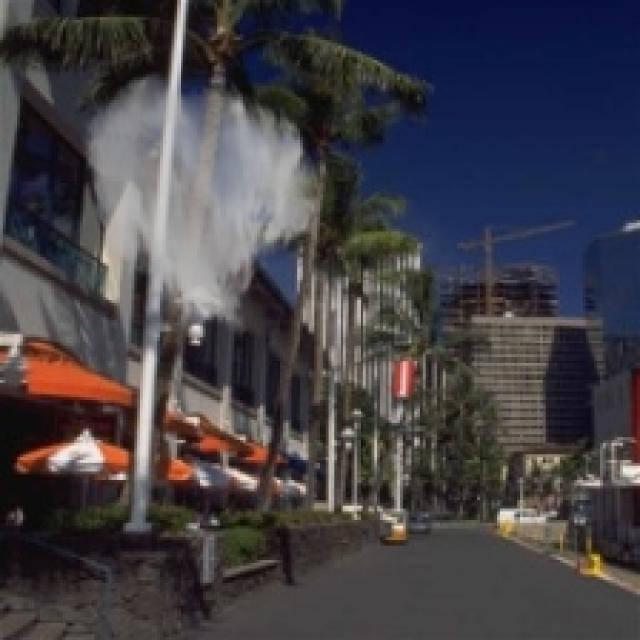Smoke: (83, 68, 323, 340)
